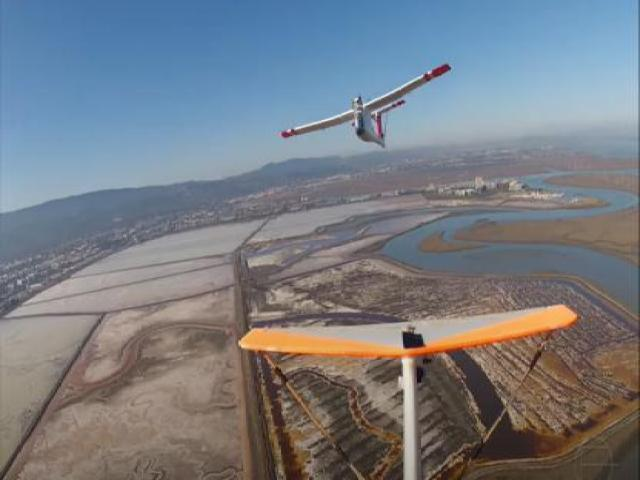uav: (276, 56, 458, 159)
